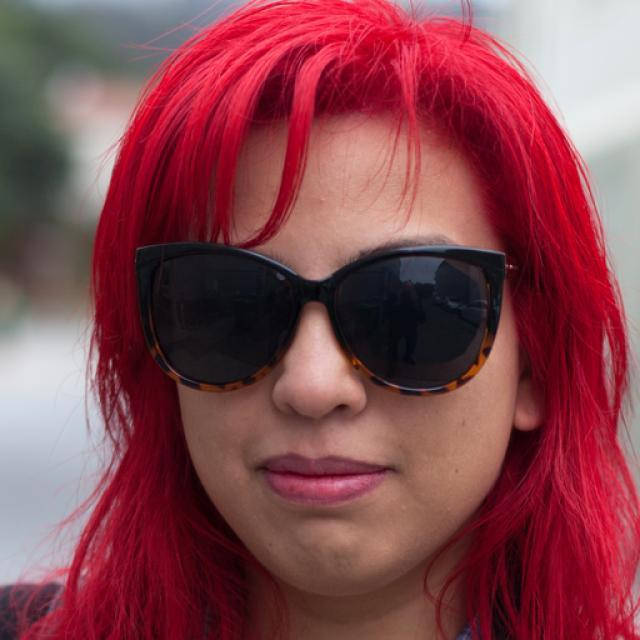neutral: (169, 108, 516, 592)
